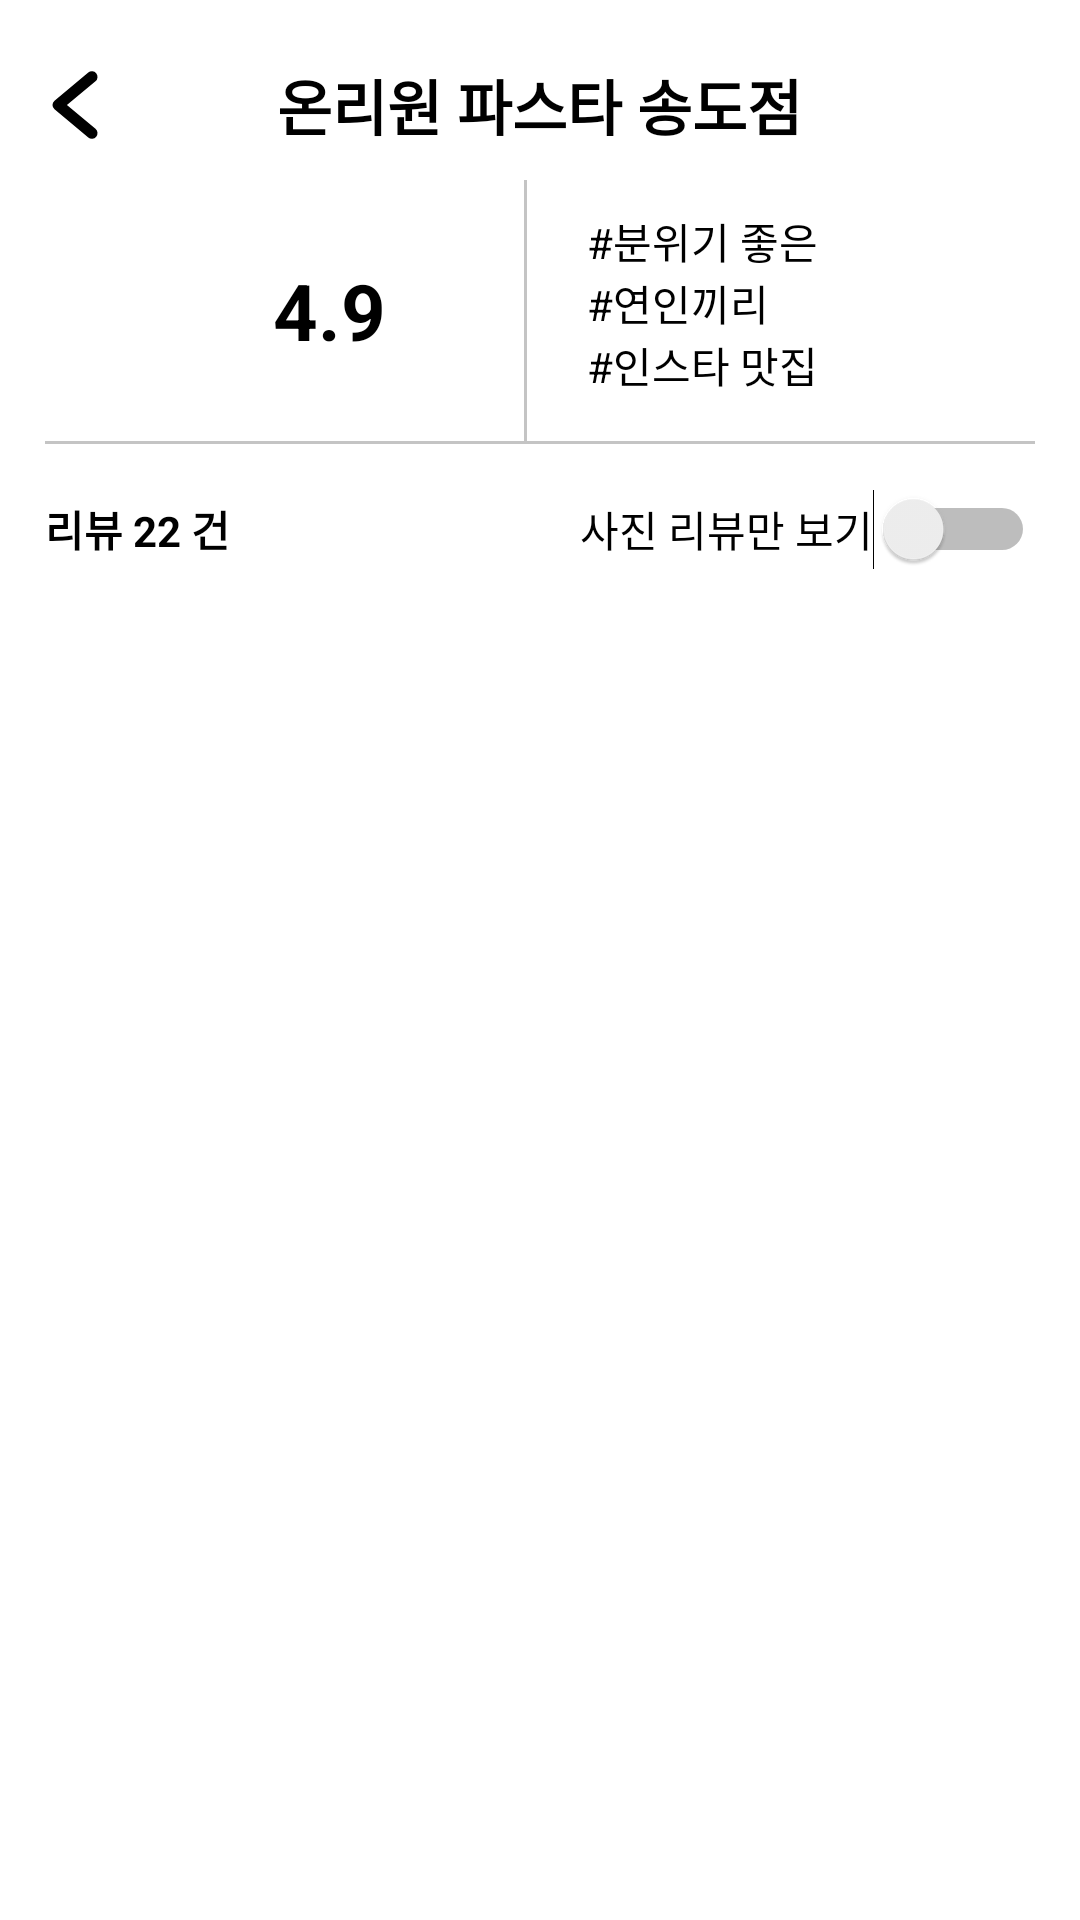

Icons on this 1080px×1920px Android screen, each with its box as (x1, y1, x2, y2):
back: (52, 71, 98, 139)
